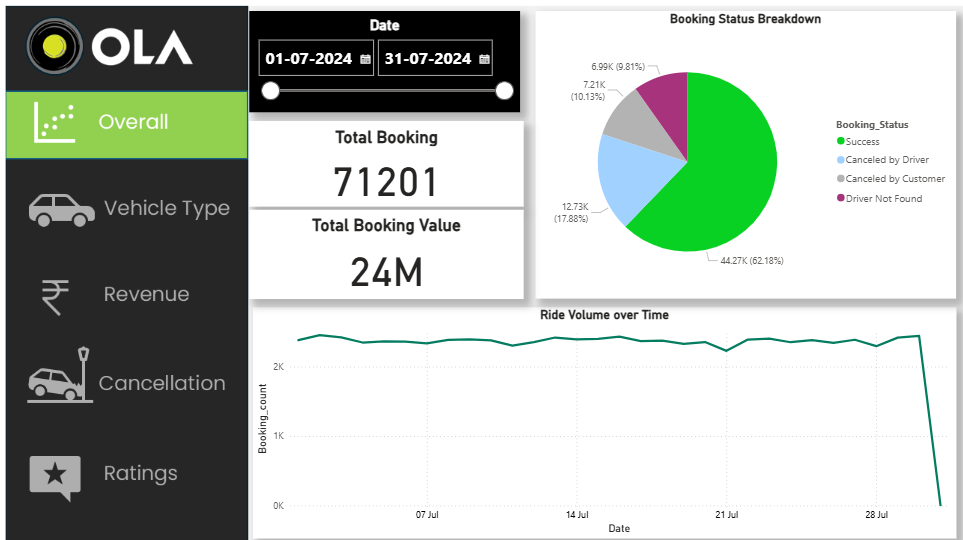

The dashboard page shown, as its layout file describes it:
{"tool":"powerbi","page":{"name":"Oral","canvas":[1500,900],"ordinal":0},"visuals":[{"type":"actionButton","box":[0,0,100,40],"z":0},{"type":"actionButton","box":[146.4,324.8,323.2,67.3],"z":1},{"type":"actionButton","box":[146.4,674.9,323.2,90.9],"z":2},{"type":"actionButton","box":[146.4,432.6,323.2,67.3],"z":3},{"type":"actionButton","box":[146.4,558.8,323.2,67.3],"z":4},{"type":"actionButton","box":[146.4,203.7,323.2,90.9],"z":5},{"type":"lineChart","title":"Ride Volume over Time","fields":{"Y":["CountNonNull(July.Booking_ID)"],"Category":["July.Date"]},"box":[440.6,488.9,939.1,308.7],"z":7},{"type":"pieChart","title":"Booking Status Breakdown","fields":{"Category":["July.Booking_Status"],"Y":["CountNonNull(July.Booking_Status)"]},"box":[818.5,93.3,561.2,384.3],"z":8},{"type":"slicer","title":"Date","fields":{"Values":["July.Date"]},"box":[435.8,93.3,361.8,135.1],"z":9},{"type":"card","title":"Total Booking","fields":{"Values":["CountNonNull(July.Booking_ID)"]},"box":[435.8,239.6,366.6,114.2],"z":10},{"type":"card","title":"Total Booking Value","fields":{"Values":["Sum(July.Booking_Value)"]},"box":[435.8,358.6,366.6,119],"z":11}]}

Visuals, with their boxes on the page's 1500x900 design canvas (x1, y1, x2, y2). These are canvas units, not pixel positions in the 963x540 screenshot, which may show the page scaled, cropped or inside an application window:
actionButton: box(0, 0, 100, 40)
actionButton: box(146, 325, 470, 392)
actionButton: box(146, 675, 470, 766)
actionButton: box(146, 433, 470, 500)
actionButton: box(146, 559, 470, 626)
actionButton: box(146, 204, 470, 295)
"Ride Volume over Time" lineChart: box(441, 489, 1380, 798)
"Booking Status Breakdown" pieChart: box(818, 93, 1380, 478)
"Date" slicer: box(436, 93, 798, 228)
"Total Booking" card: box(436, 240, 802, 354)
"Total Booking Value" card: box(436, 359, 802, 478)
